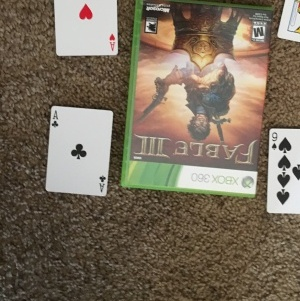card: (44, 103, 114, 198)
